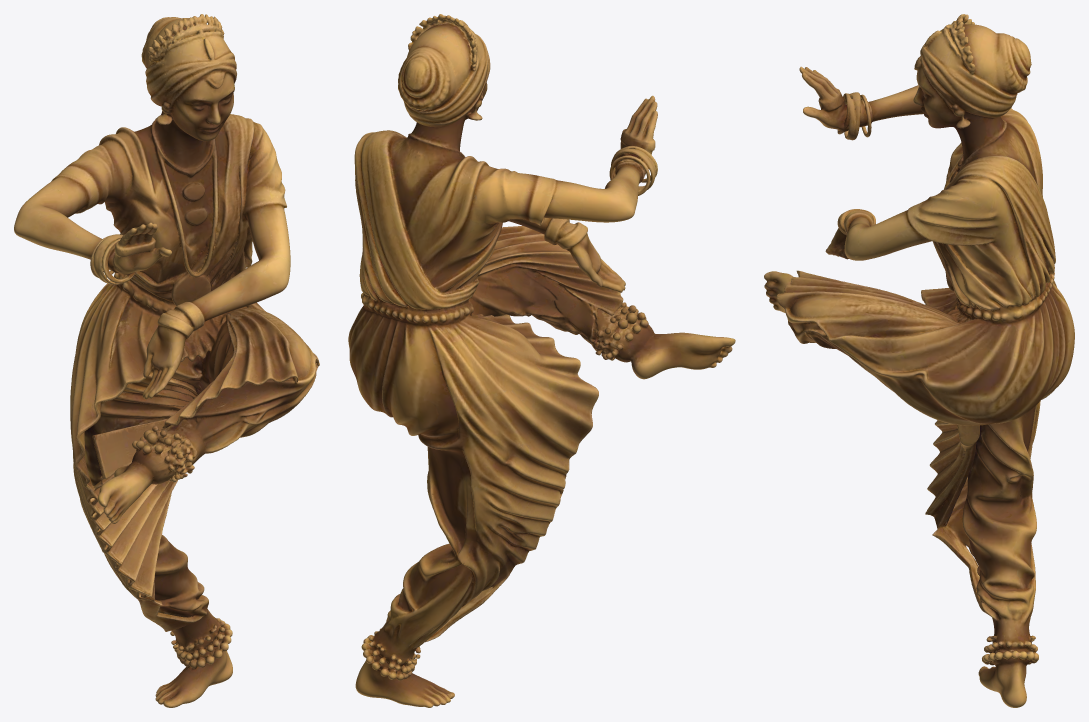
3 views of the same model, side by side, from view 1: azimuth 30°, elevation 25°; view 2: azimuth 150°, elevation 25°; view 3: azimuth 270°, elevation 25° (orthographic). The views are drawn at different scales.
Bounding box in the file's own units: 0.8051 × 1.9 × 0.8056.
Materials: 1 (1 with a texture image).
